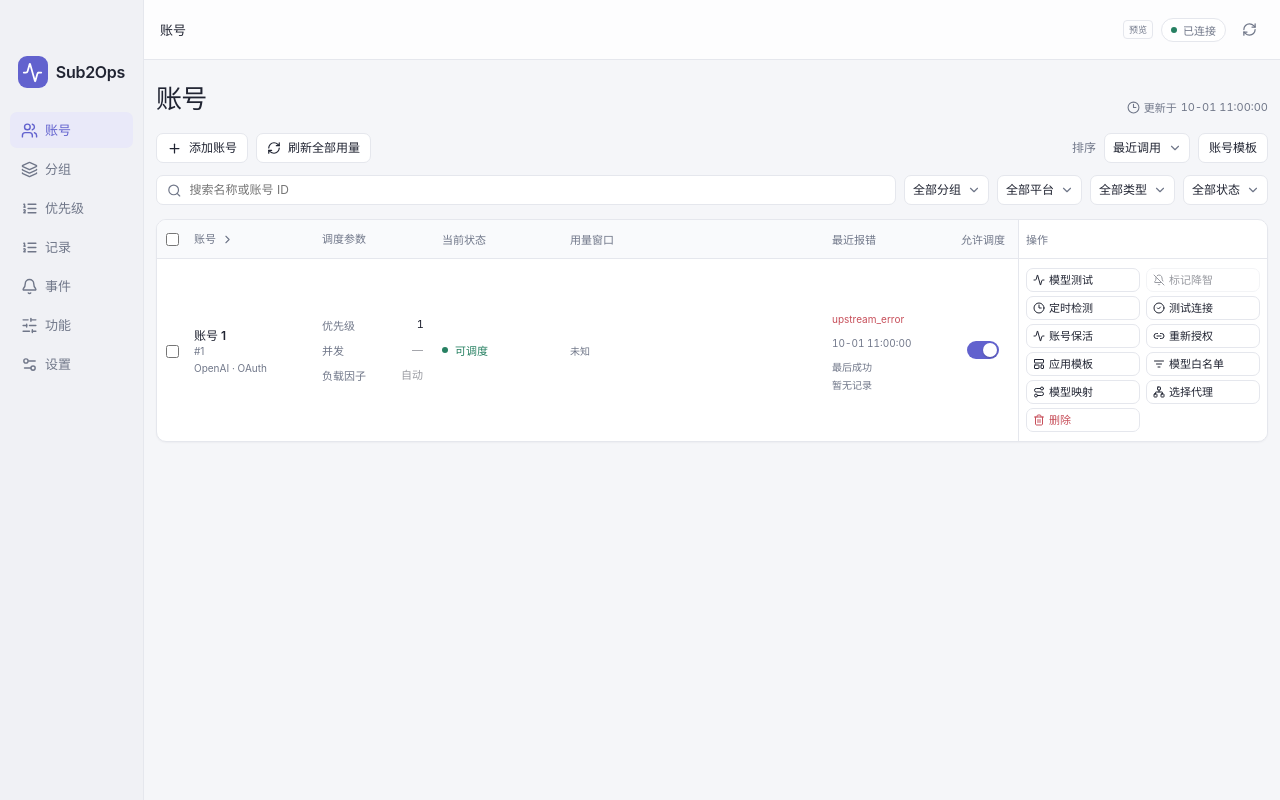
it: main page surface ownership › drops a late event page response after leaving and re-entering the page
Click the button "事件" at (72, 286), box [10,268,133,304]
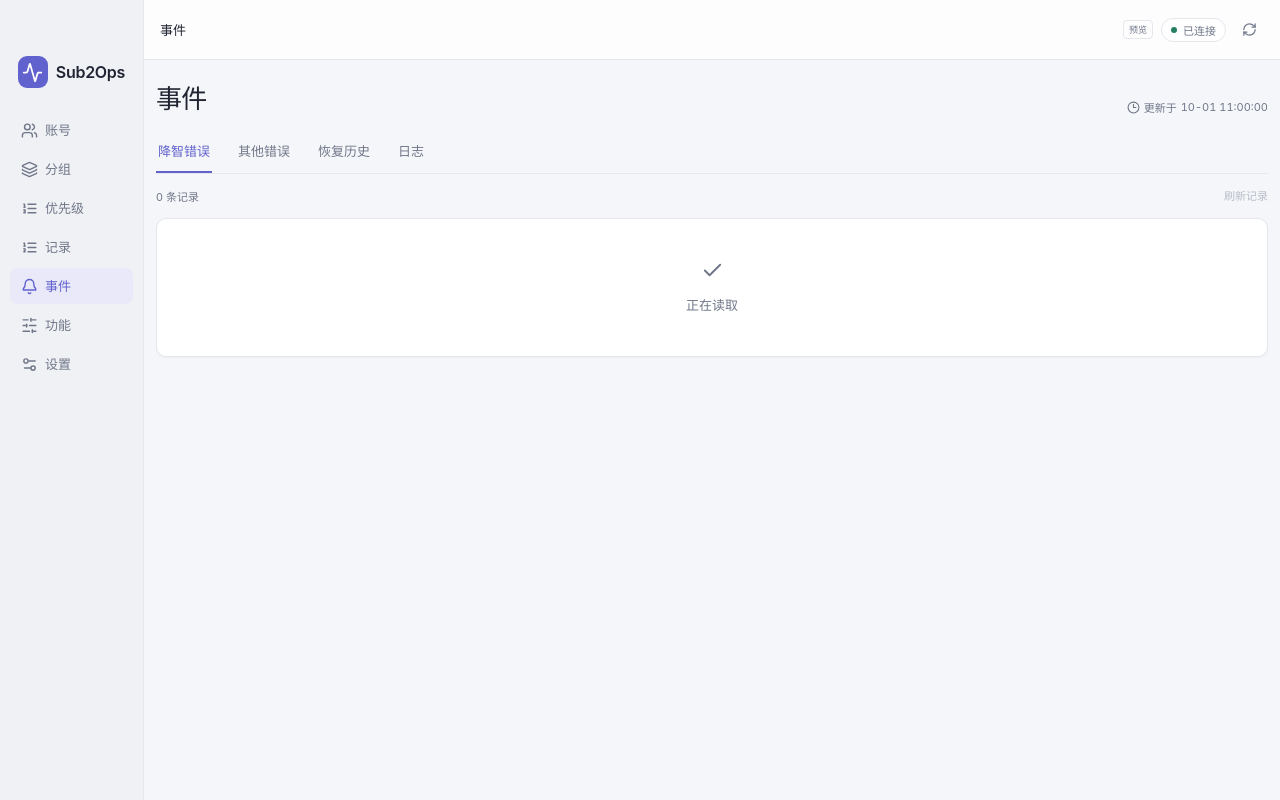
Click the button "账号" at (72, 130), box [10,112,133,148]
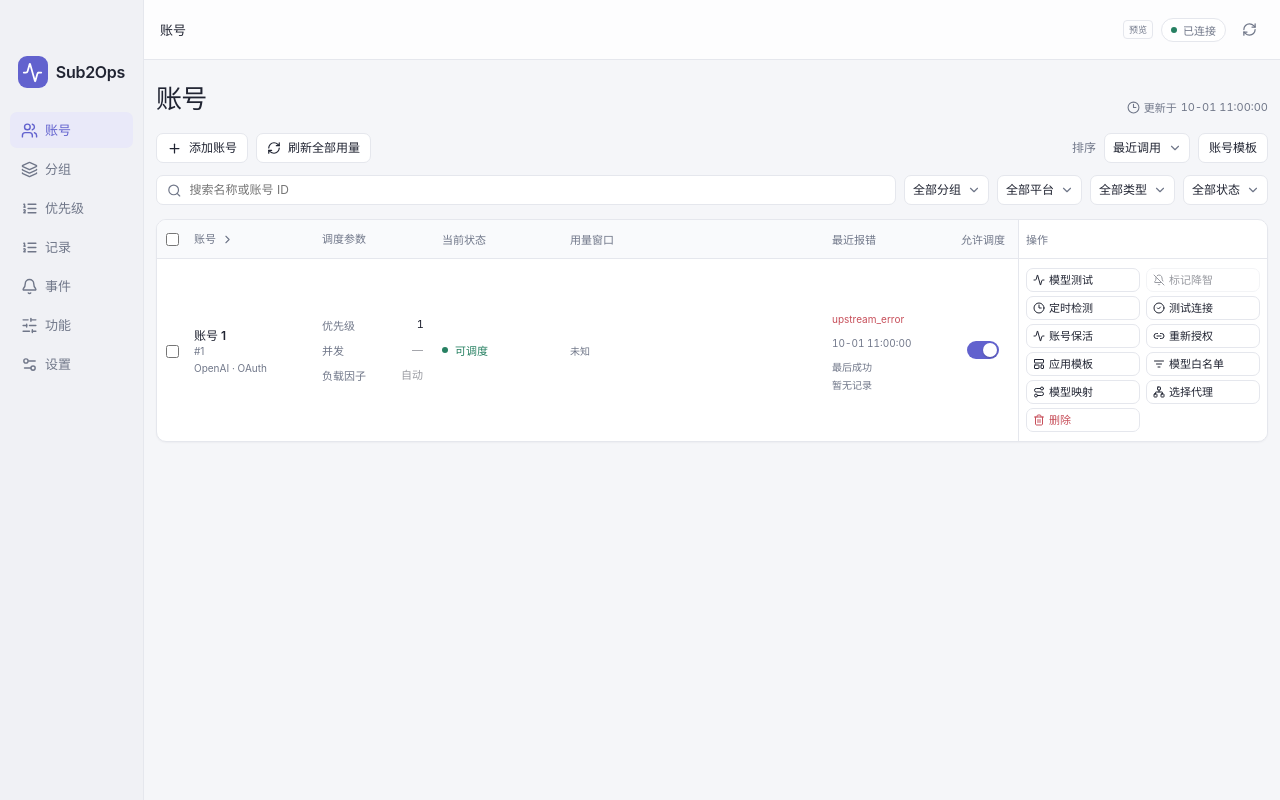
Click the button "事件" at (72, 286), box [10,268,133,304]
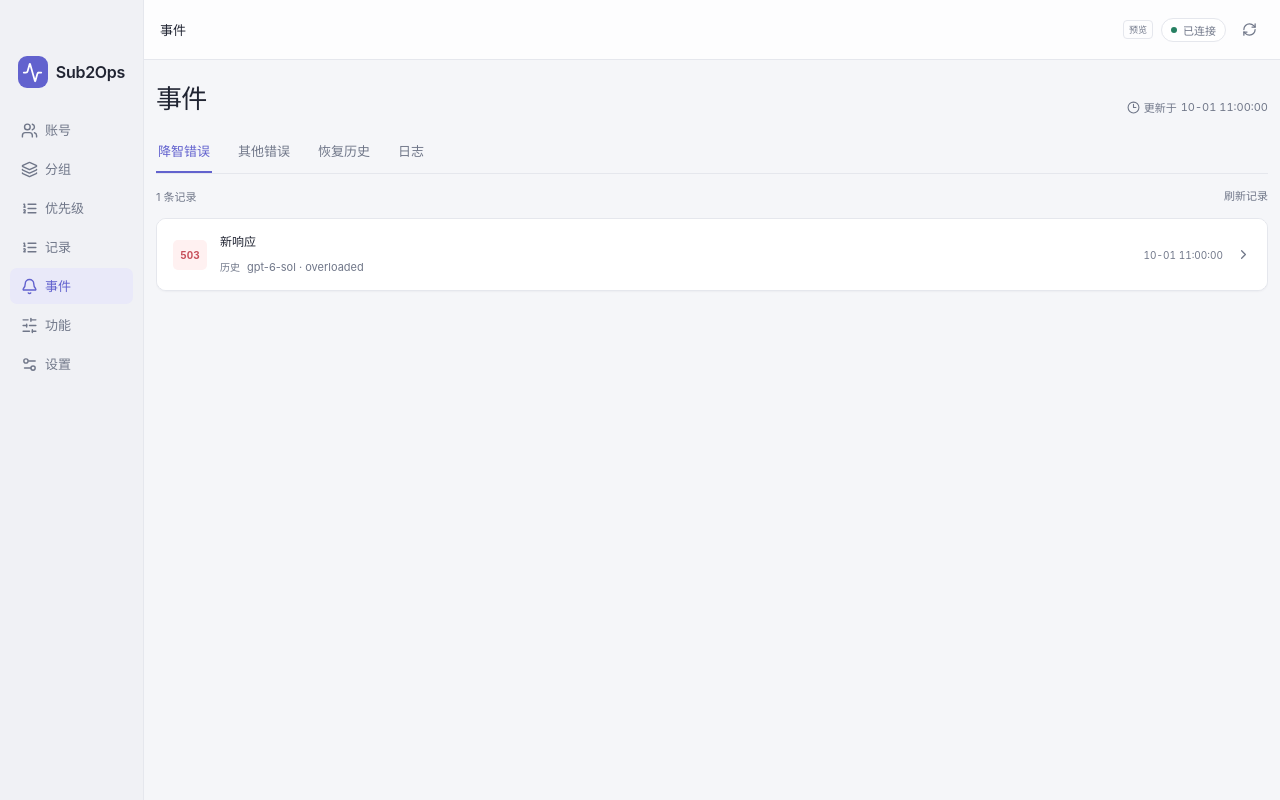
Now the text "新响应" is shown, box [220,234,256,249]
